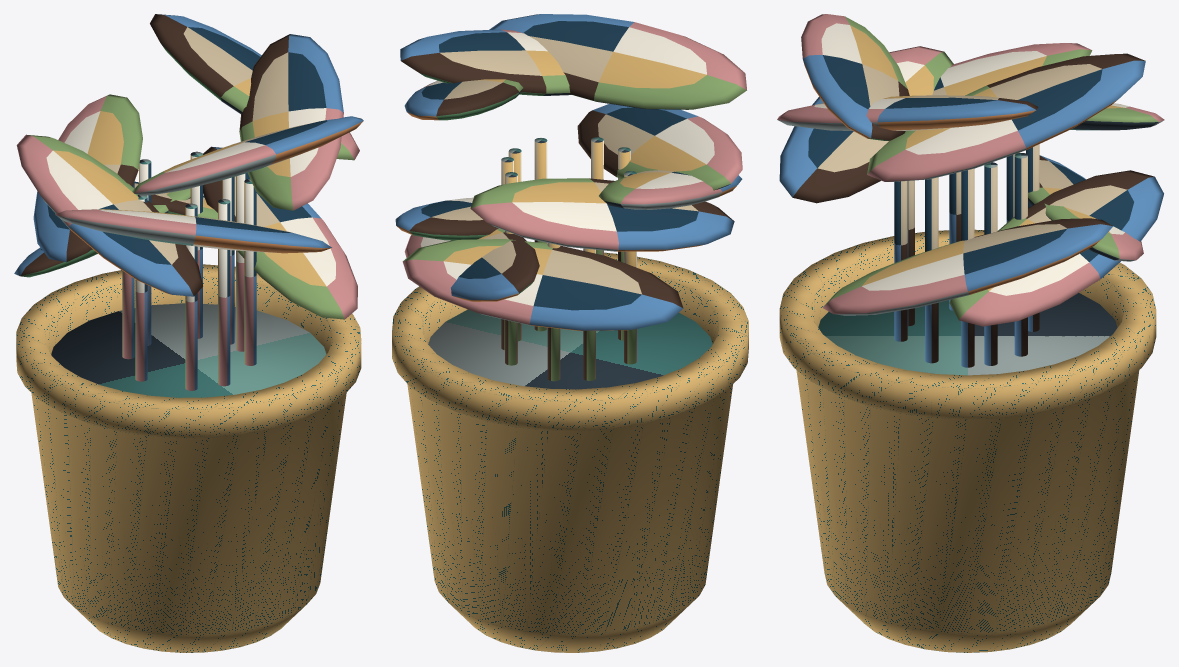
File: PottedFern.fbx
The picture shows the model from 3 angles, left to right: view 1: azimuth 30°, elevation 25°; view 2: azimuth 150°, elevation 25°; view 3: azimuth 270°, elevation 25°; orthographic projection. The views are drawn at different scales.
Visible parts, largest first — view 1: PottedFern; view 2: PottedFern; view 3: PottedFern.
Boxes of the visible parts, x1,y1,x2,y2 form: PottedFern: [14, 14, 363, 652]; PottedFern: [392, 14, 748, 652]; PottedFern: [777, 14, 1164, 652].
Size of the model in its own units: 0.84 by 1.41 by 0.8655.
1 material, 1 textured.
